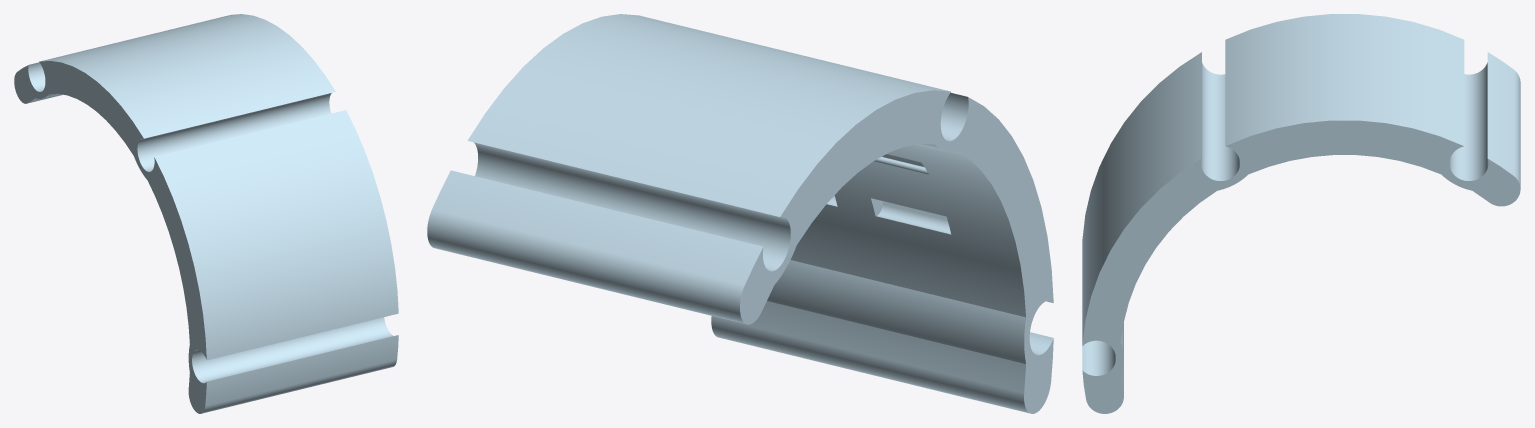
3 renders of one model, left to right at view 1: azimuth 30°, elevation 25°; view 2: azimuth 150°, elevation 25°; view 3: azimuth 270°, elevation 25°, orthographic. The views are drawn at different scales.
Parts seen in each view (by area): view 1: mesh82100, mesh82098, mesh82107, mesh82102, mesh82101, mesh82099, mesh82103, mesh82097; view 2: mesh82098, mesh82110, mesh82107, mesh82096, mesh82095, mesh82106, mesh82097, mesh82104, mesh82103, mesh82099, mesh82111; view 3: mesh82098, mesh82108, mesh82100, mesh82097, mesh82099, mesh82096, mesh82101, mesh82095.
Part boxes in pixels (left/top/right/bottom): mesh82100: left=154, top=110, right=398, bottom=360; mesh82098: left=40, top=14, right=335, bottom=138; mesh82107: left=14, top=61, right=206, bottom=413; mesh82102: left=205, top=335, right=398, bottom=405; mesh82101: left=192, top=317, right=393, bottom=383; mesh82099: left=137, top=93, right=331, bottom=171; mesh82103: left=202, top=359, right=396, bottom=413; mesh82097: left=28, top=62, right=45, bottom=91; mesh82098: left=467, top=14, right=950, bottom=216; mesh82110: left=790, top=144, right=1025, bottom=317; mesh82107: left=740, top=90, right=1053, bottom=413; mesh82096: left=432, top=170, right=762, bottom=285; mesh82095: left=427, top=209, right=745, bottom=323; mesh82106: left=767, top=260, right=1025, bottom=363; mesh82097: left=474, top=142, right=790, bottom=271; mesh82104: left=711, top=301, right=1025, bottom=392; mesh82103: left=711, top=316, right=1029, bottom=413; mesh82099: left=940, top=93, right=968, bottom=141; mesh82111: left=876, top=205, right=951, bottom=234; mesh82098: left=1225, top=14, right=1464, bottom=145; mesh82108: left=1082, top=120, right=1520, bottom=413; mesh82100: left=1082, top=52, right=1201, bottom=345; mesh82097: left=1449, top=62, right=1488, bottom=180; mesh82099: left=1201, top=62, right=1240, bottom=180; mesh82096: left=1487, top=52, right=1513, bottom=175; mesh82101: left=1082, top=340, right=1115, bottom=375; mesh82095: left=1513, top=69, right=1520, bottom=187.
Size of the model in its own units: 0.0419 by 0.0538 by 0.0728.
